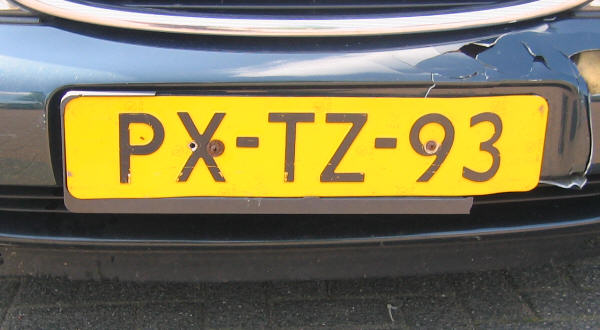license_plate: (60, 90, 551, 198)
